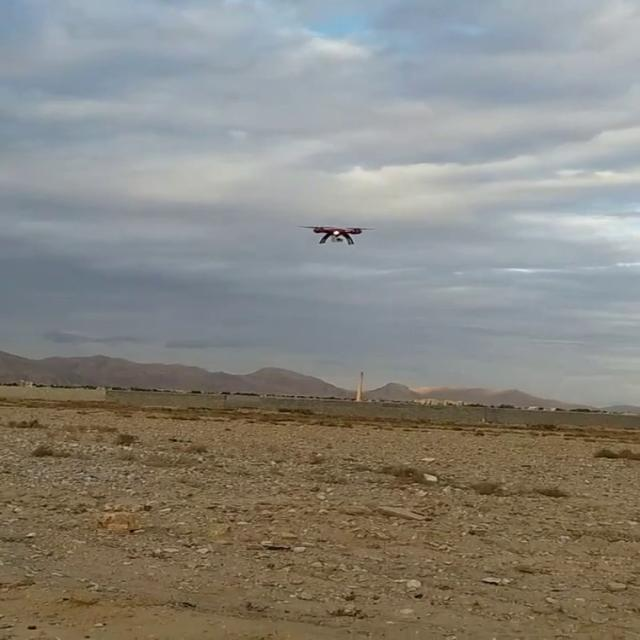drone: (301, 220, 374, 248)
